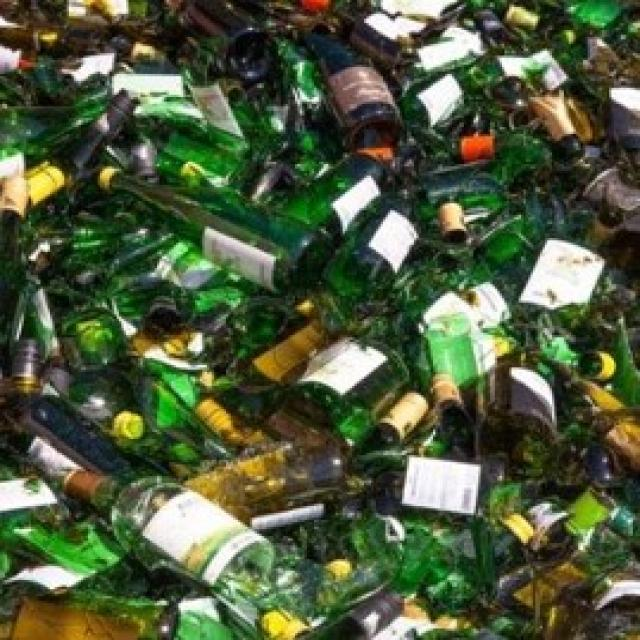electronic: (13, 419, 276, 602), (96, 160, 328, 297), (308, 21, 411, 162), (518, 220, 608, 332)
